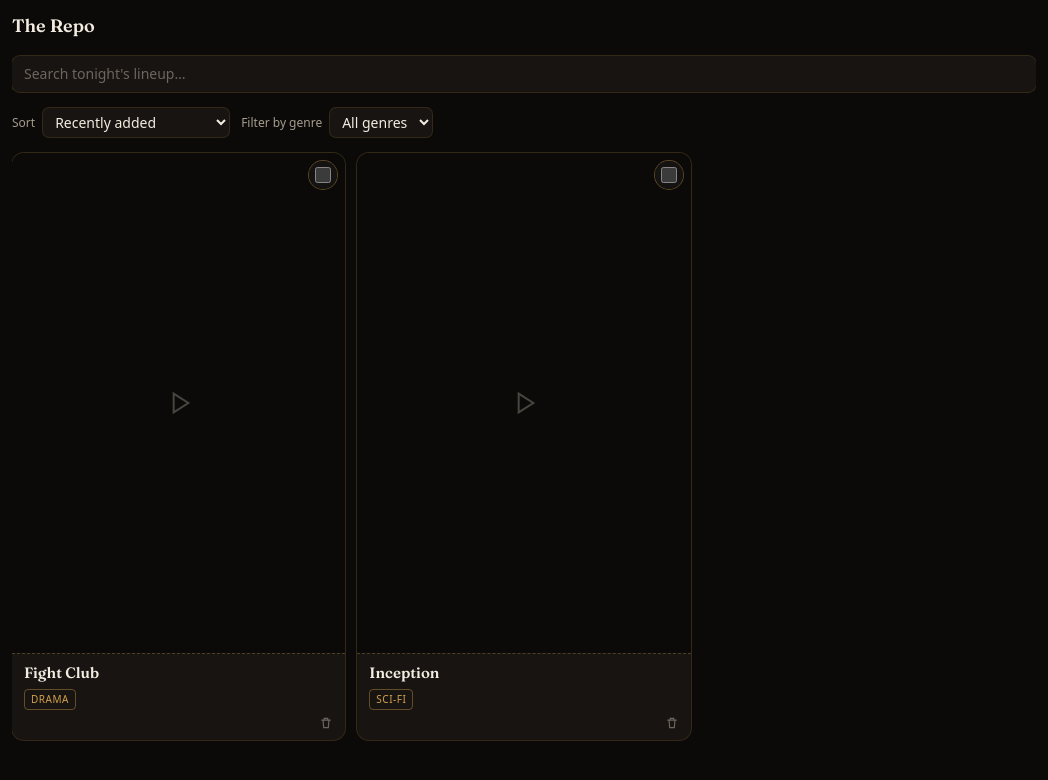
Scenario: RepoPanel › the genre filter narrows which repo cards are shown (Module 6)
Check: the text "Fight Club" is shown, box [24, 663, 99, 682]
Check: the text "Inception" is shown, box [369, 663, 439, 682]
Select "Drama" in the dropdown labelled "Filter by genre": [381, 122] box [330, 108, 432, 137]
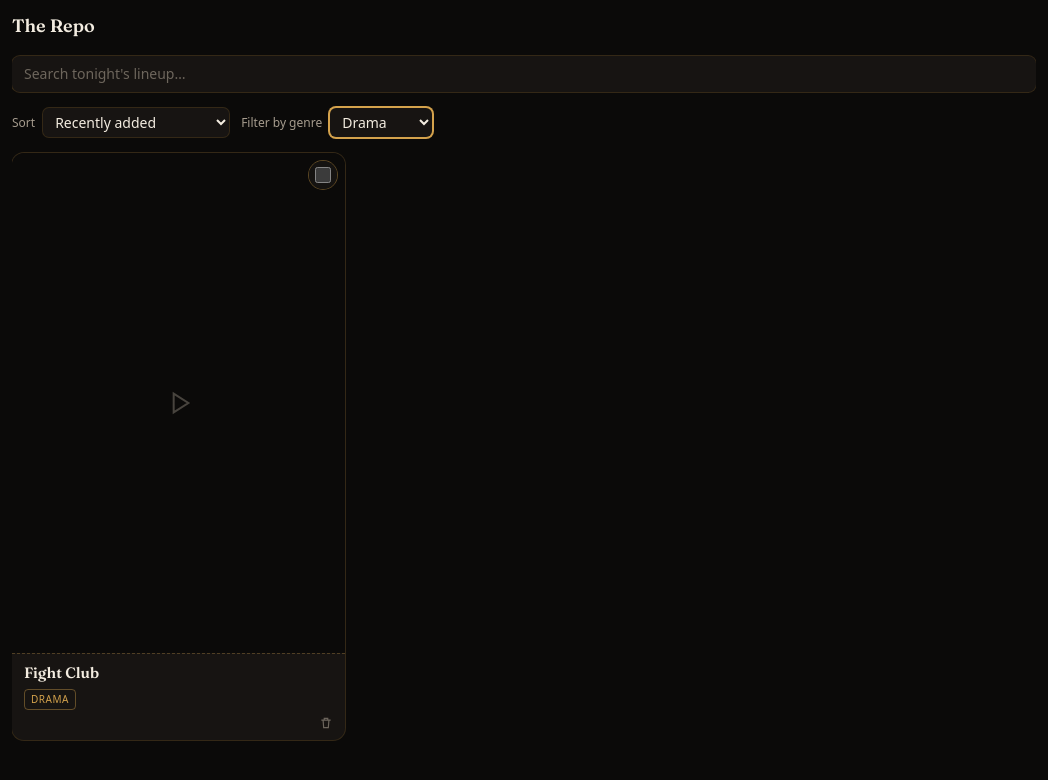
Check: the text "Fight Club" is shown, box [24, 663, 99, 682]
Check: the text "Inception" is gone
